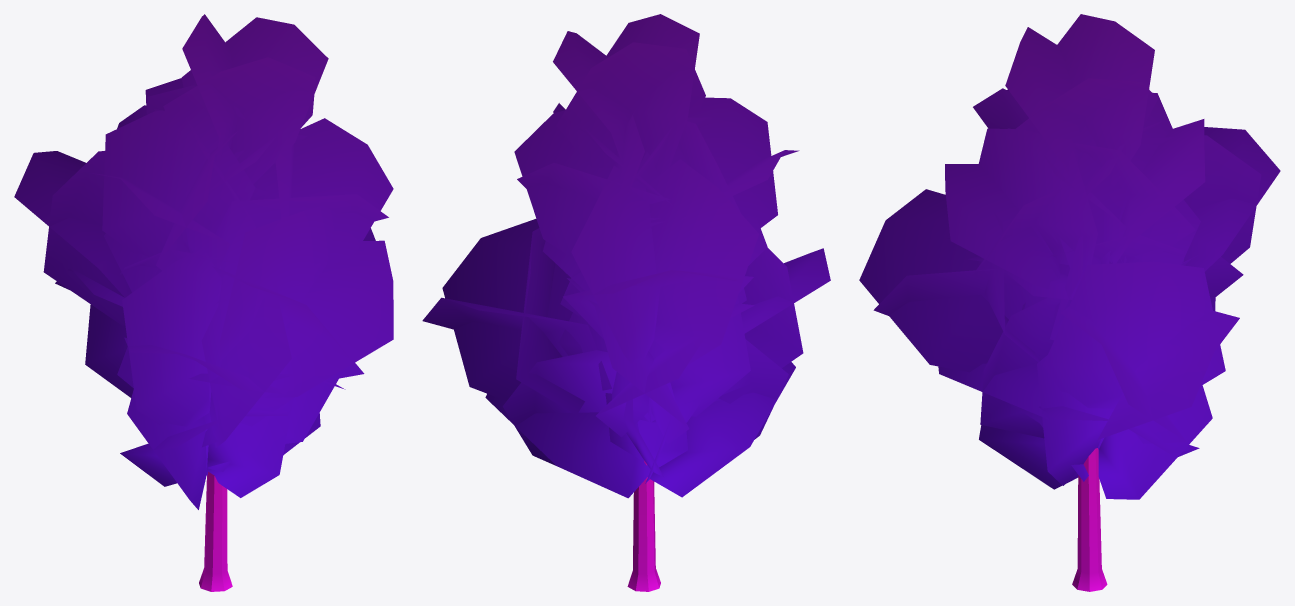
Rendered from synty-tree-birch-small-01.gltf.
3 views of the same model, side by side, from view 1: azimuth 30°, elevation 25°; view 2: azimuth 150°, elevation 25°; view 3: azimuth 270°, elevation 25° (orthographic).
Visible parts, largest first — view 1: SM_Tree_Birch_Small_01; view 2: SM_Tree_Birch_Small_01; view 3: SM_Tree_Birch_Small_01.
Part boxes in pixels (x1=…): SM_Tree_Birch_Small_01: x1=14, y1=14, x2=393, y2=591; SM_Tree_Birch_Small_01: x1=422, y1=14, x2=830, y2=591; SM_Tree_Birch_Small_01: x1=859, y1=14, x2=1280, y2=591.
Size of the model in its own units: 1.17 by 1.88 by 1.27.
